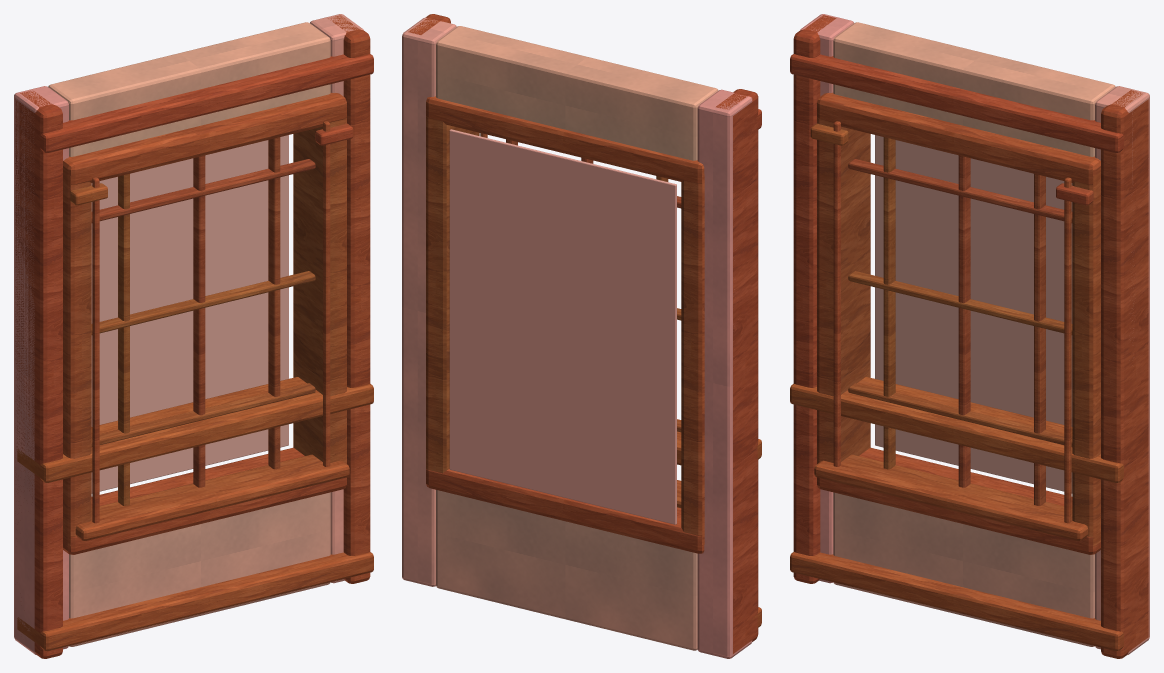
Rendered from WC_CAFE_Wall_Window_A.glb.
The picture shows the model from 3 angles, left to right: view 1: azimuth 30°, elevation 25°; view 2: azimuth 150°, elevation 25°; view 3: azimuth 330°, elevation 25°; orthographic projection.
Visible parts, largest first — view 1: WC_CAFE_Wall_Window_A_DesignedMesh; view 2: WC_CAFE_Wall_Window_A_DesignedMesh; view 3: WC_CAFE_Wall_Window_A_DesignedMesh.
Boxes of the visible parts, x1,y1,x2,y2 form: WC_CAFE_Wall_Window_A_DesignedMesh: [14, 14, 373, 658]; WC_CAFE_Wall_Window_A_DesignedMesh: [402, 14, 761, 658]; WC_CAFE_Wall_Window_A_DesignedMesh: [790, 14, 1149, 658].
Bounding box in the file's own units: 1.6 × 2.54 × 0.36.
Materials: 5 (4 with a texture image).
